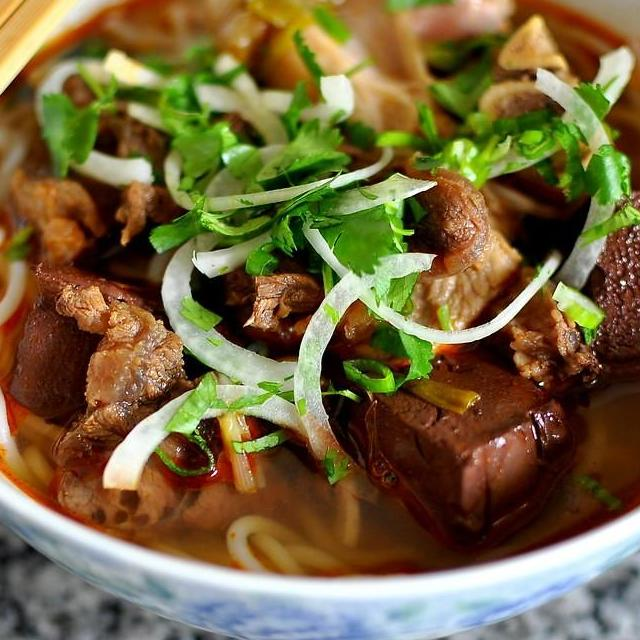bun: (0, 116, 82, 501), (212, 466, 431, 591)
bun bo: (0, 27, 640, 624)
thit bo: (232, 155, 530, 373), (45, 278, 196, 543), (471, 249, 620, 403)
